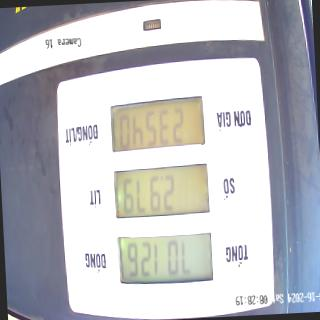screen: (107, 90, 216, 292)
